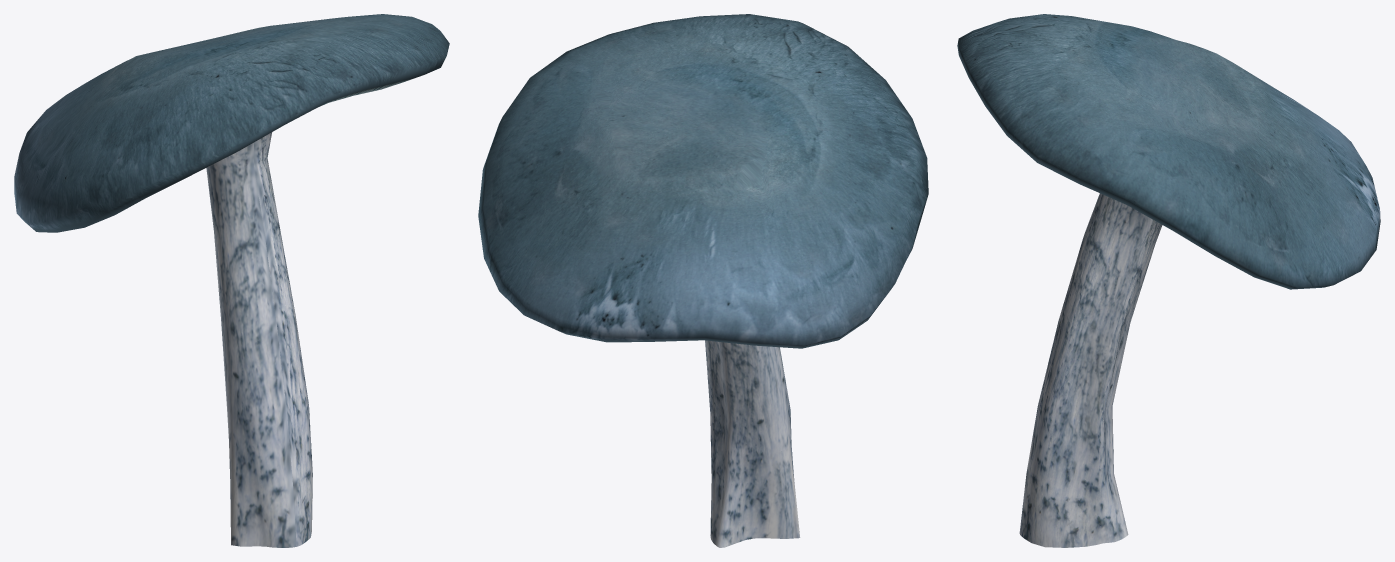
The model's file is mushy3.FBX.
3 renders of one model, left to right at view 1: azimuth 30°, elevation 25°; view 2: azimuth 150°, elevation 25°; view 3: azimuth 270°, elevation 25°, orthographic. The views are drawn at different scales.
Parts seen in each view (by area): view 1: mushy3_uv; view 2: mushy3_uv; view 3: mushy3_uv.
Part boxes in pixels (x1,y1,x2,y2): mushy3_uv: (14,14,449,547); mushy3_uv: (478,14,928,547); mushy3_uv: (957,14,1380,547).
Size of the model in its own units: 77.58 by 93.03 by 71.14.
